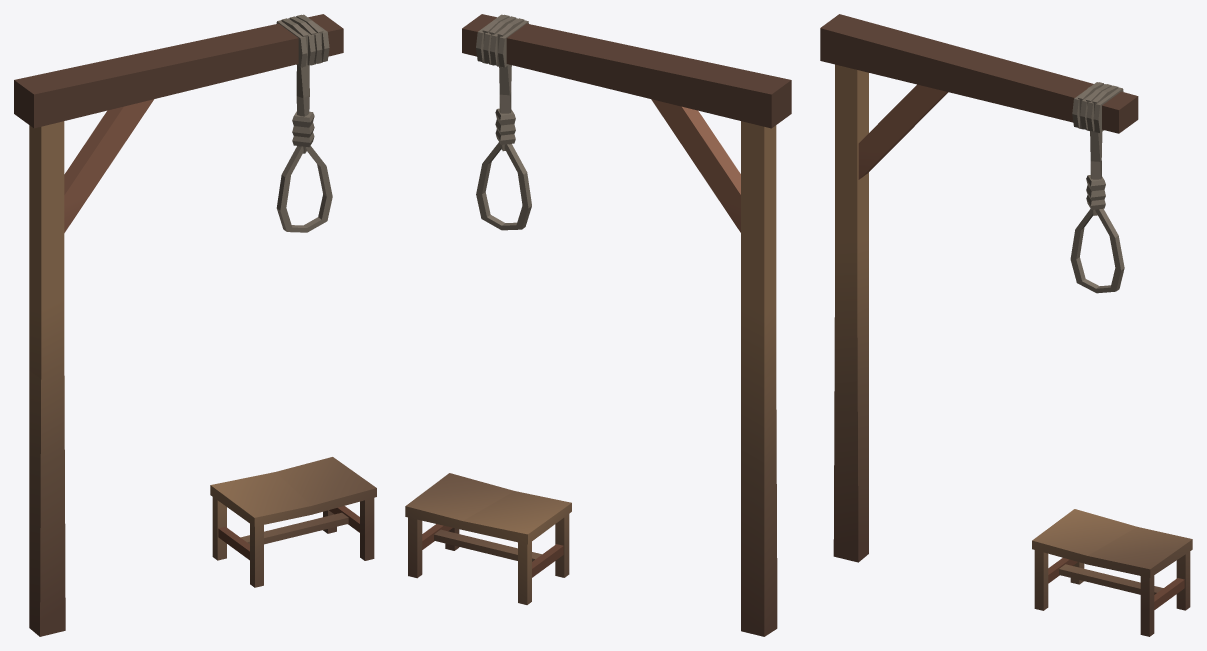
Rendered from Street Loop.glb.
3 renders of one model, left to right at view 1: azimuth 30°, elevation 25°; view 2: azimuth 150°, elevation 25°; view 3: azimuth 330°, elevation 25°, orthographic. The views are drawn at different scales.
Visible parts, largest first — view 1: Street Loop; view 2: Street Loop; view 3: Street Loop.
Boxes of the visible parts, x1,y1,x2,y2 form: Street Loop: [14, 14, 376, 636]; Street Loop: [405, 14, 791, 636]; Street Loop: [820, 14, 1192, 636].
Size of what is drawn, in the model's own units: 2.42 by 3.7 by 0.5784.
Materials: 1 (1 with a texture image).
